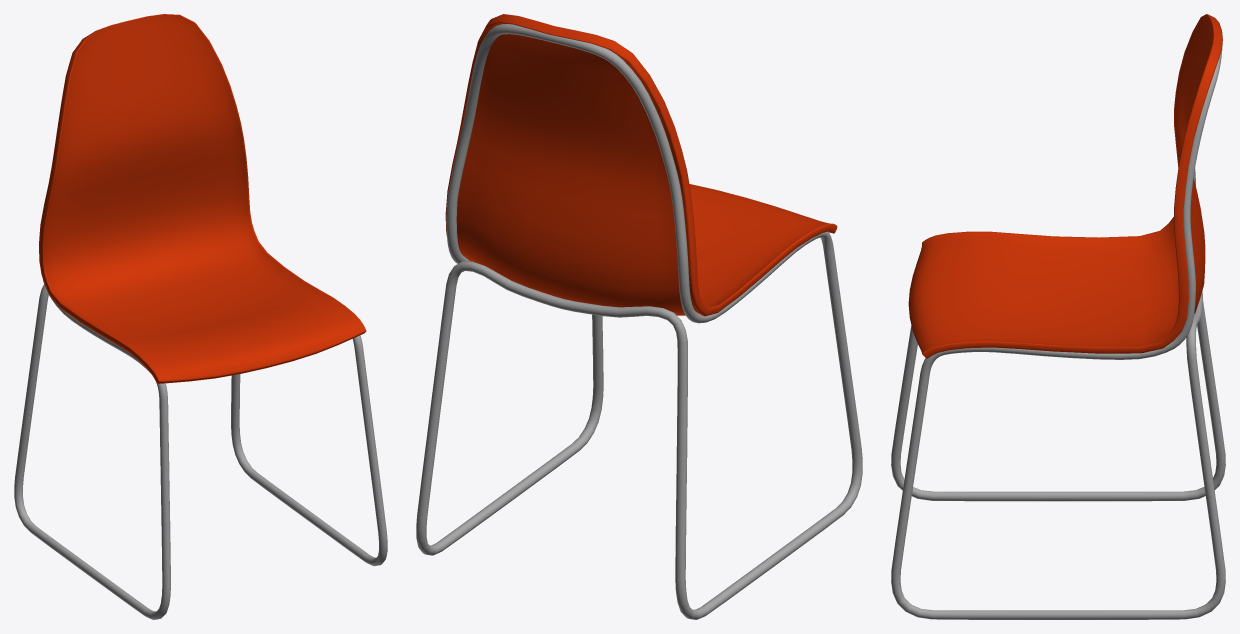
Rendered from plastic_chair.obj.
The picture shows the model from 3 angles, left to right: view 1: azimuth 30°, elevation 25°; view 2: azimuth 150°, elevation 25°; view 3: azimuth 270°, elevation 25°; orthographic projection. The views are drawn at different scales.
Bounding box in the file's own units: 48.35 × 96.5 × 55.72.
